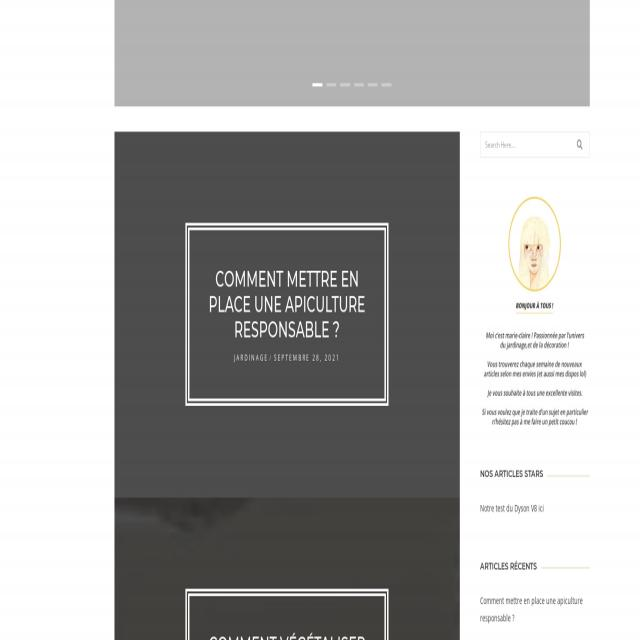button: (187, 226, 387, 401), (186, 591, 387, 640), (508, 196, 561, 292), (571, 136, 589, 159), (366, 78, 380, 90), (310, 79, 324, 91), (352, 79, 367, 90), (324, 79, 338, 90), (338, 79, 352, 90), (379, 79, 393, 90)
field: (480, 134, 571, 159)
